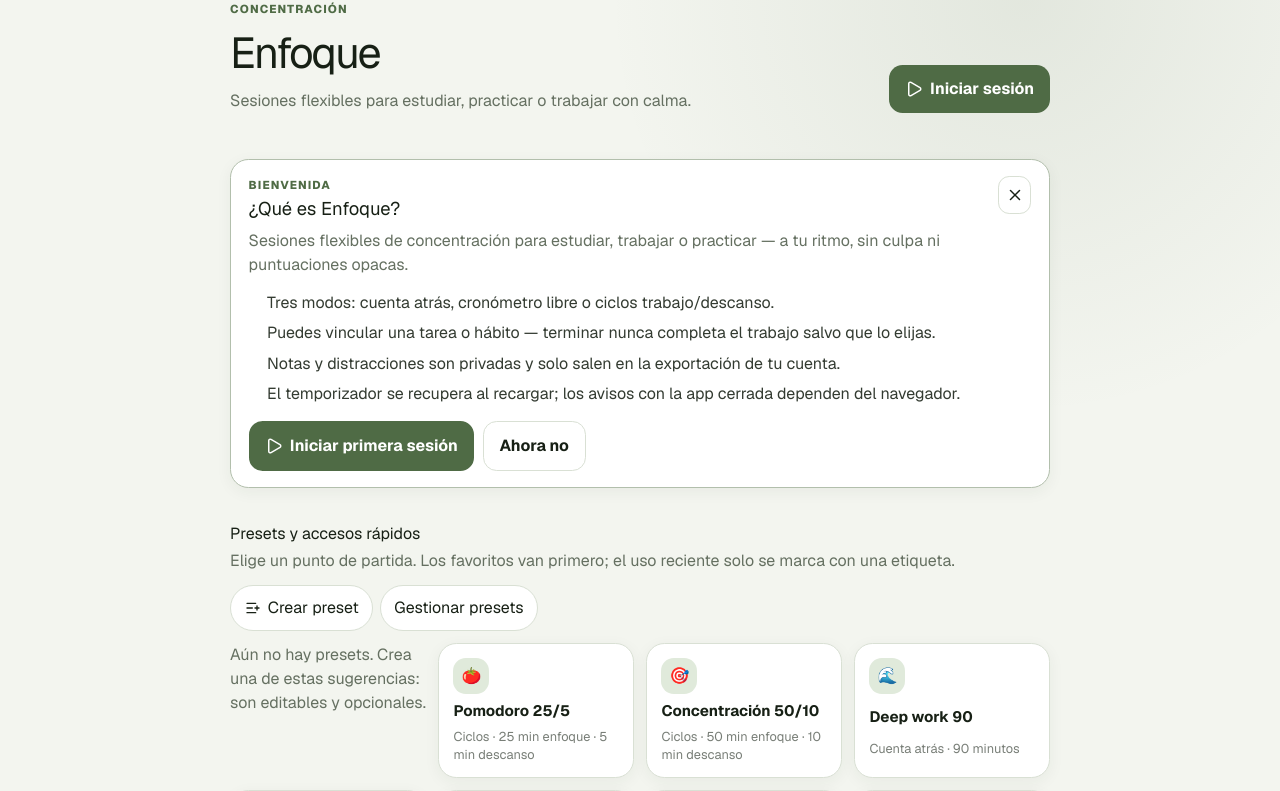
Scenario: Focus home shell › opens the configurator from the primary start action
Click the button "Iniciar sesión" at (969, 89), box [889, 65, 1050, 113]
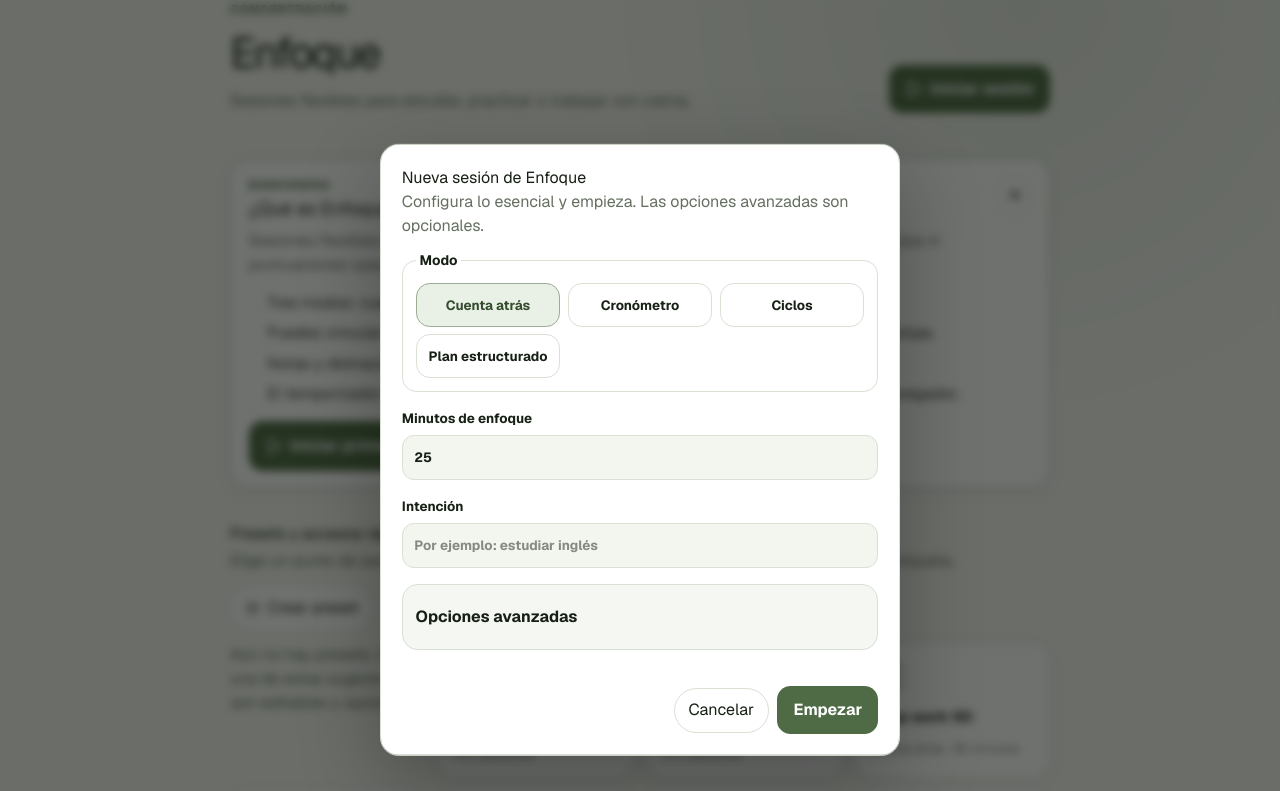
Result: the heading "Nueva sesión de Enfoque" is shown at [402, 167, 586, 188]
